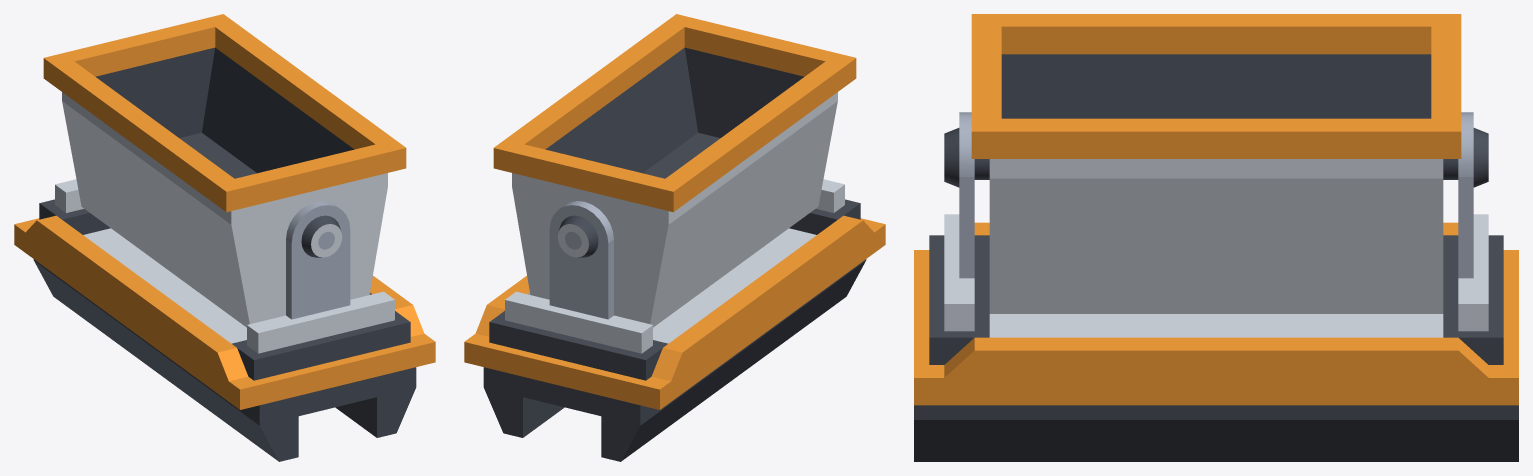
Rendered from monorail_trainCargo.fbx.
3 renders of one model, left to right at view 1: azimuth 30°, elevation 25°; view 2: azimuth 150°, elevation 25°; view 3: azimuth 270°, elevation 25°, orthographic. The views are drawn at different scales.
Visible parts, largest first — view 1: load, monorail_trainCargo; view 2: load, monorail_trainCargo; view 3: load, monorail_trainCargo.
Part boxes in pixels (<box>): load: <box>43,14,406,327</box>; monorail_trainCargo: <box>14,179,435,461</box>; load: <box>493,14,856,327</box>; monorail_trainCargo: <box>464,179,885,461</box>; load: <box>971,14,1461,313</box>; monorail_trainCargo: <box>914,112,1518,461</box>.
Size of the model in its own units: 5 by 6.4 by 10.
